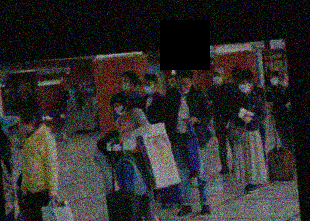mask_weared_incorrect: (177, 78, 190, 95), (278, 72, 288, 86)
with_mask: (18, 116, 30, 136), (142, 78, 155, 95), (113, 101, 126, 116), (211, 72, 224, 86), (238, 79, 249, 93), (121, 76, 131, 91), (269, 74, 280, 86)
without_mask: (166, 78, 178, 90)
